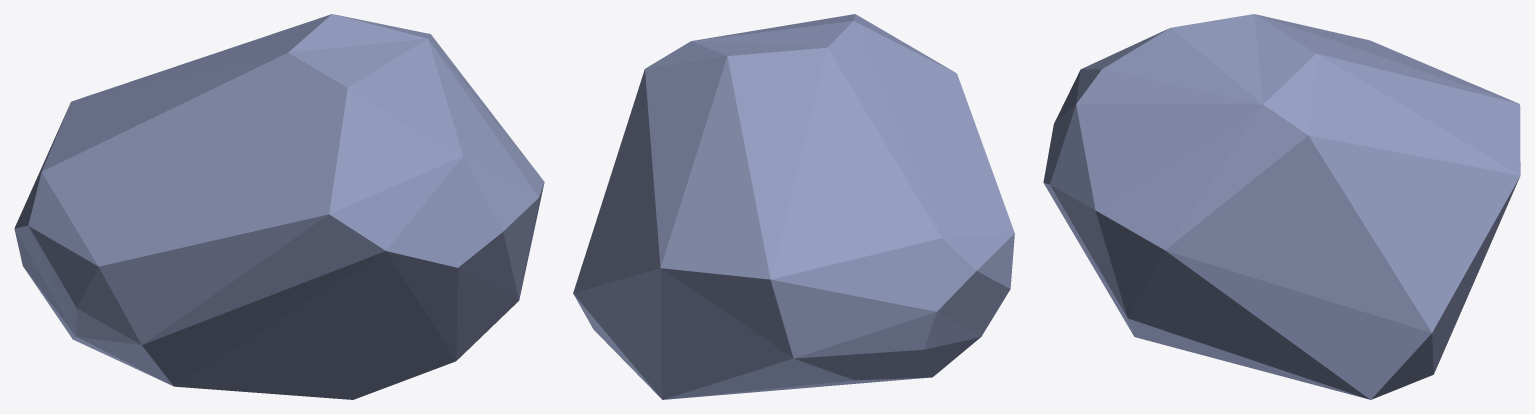
File: Stone_3.fbx
3 views of the same model, side by side, from view 1: azimuth 30°, elevation 25°; view 2: azimuth 150°, elevation 25°; view 3: azimuth 270°, elevation 25° (orthographic). The views are drawn at different scales.
Parts seen in each view (by area): view 1: Stone_3; view 2: Stone_3; view 3: Stone_3.
Part boxes in pixels (bbox=[...]): Stone_3: bbox=[14, 14, 544, 399]; Stone_3: bbox=[573, 14, 1014, 399]; Stone_3: bbox=[1043, 14, 1520, 399].
Size of the model in its own units: 0.9263 by 0.7087 by 0.9556.
